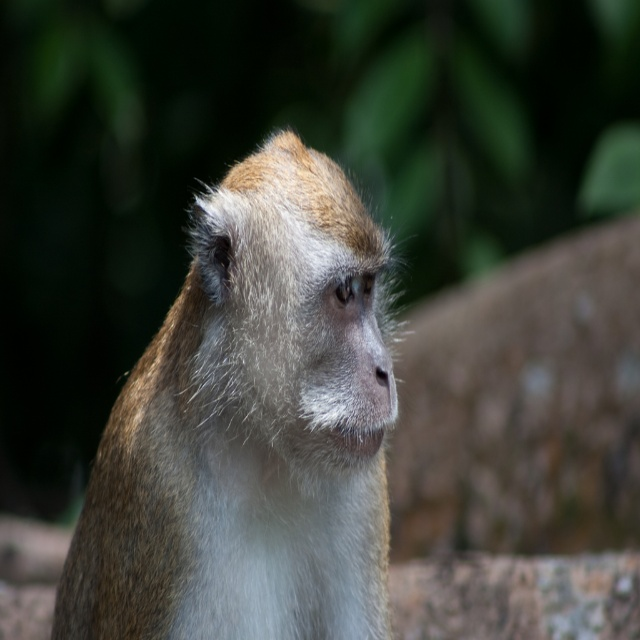Monkey: (64, 133, 426, 640)
